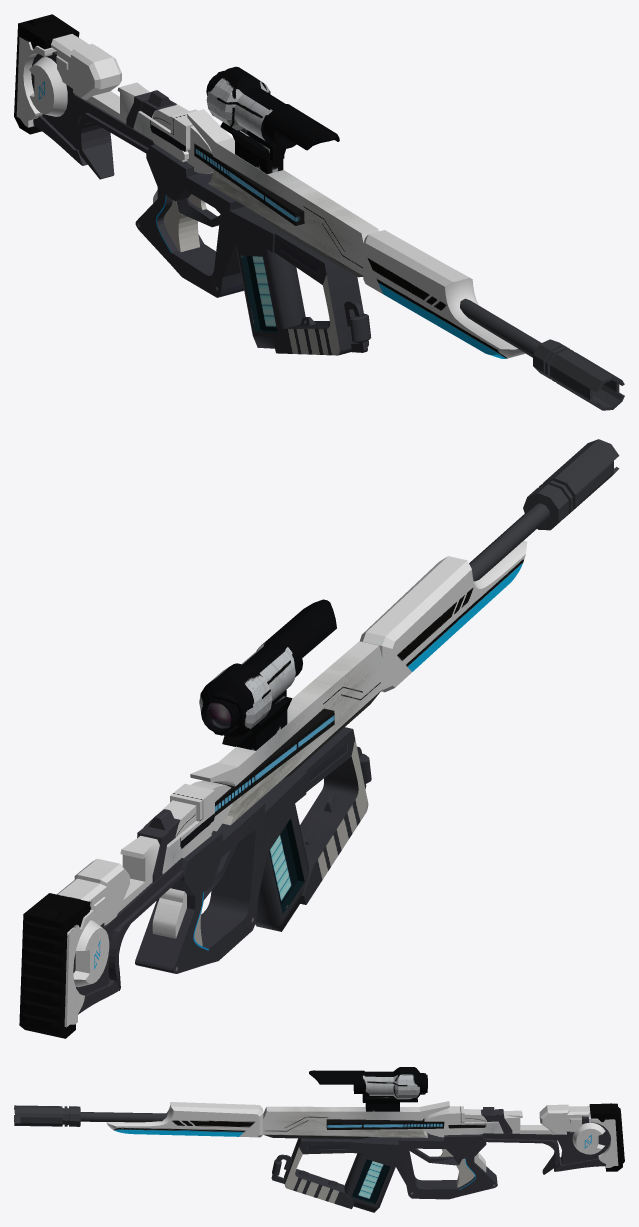
The model's file is sniperFinalv2.obj.
3 views of the same model, one above another, from view 1: azimuth 30°, elevation 25°; view 2: azimuth 150°, elevation 25°; view 3: azimuth 270°, elevation 25° (orthographic). The views are drawn at different scales.
Visible parts, largest first — view 1: polySurface82; view 2: polySurface82; view 3: polySurface82.
Part boxes in pixels (x1=…): polySurface82: x1=14, y1=14, x2=624, y2=410; polySurface82: x1=19, y1=439, x2=619, y2=1038; polySurface82: x1=14, y1=1067, x2=624, y2=1212.
Bounding box in the file's own units: 1.35 × 4.22 × 16.46.
Materials: 4 (4 with a texture image).
